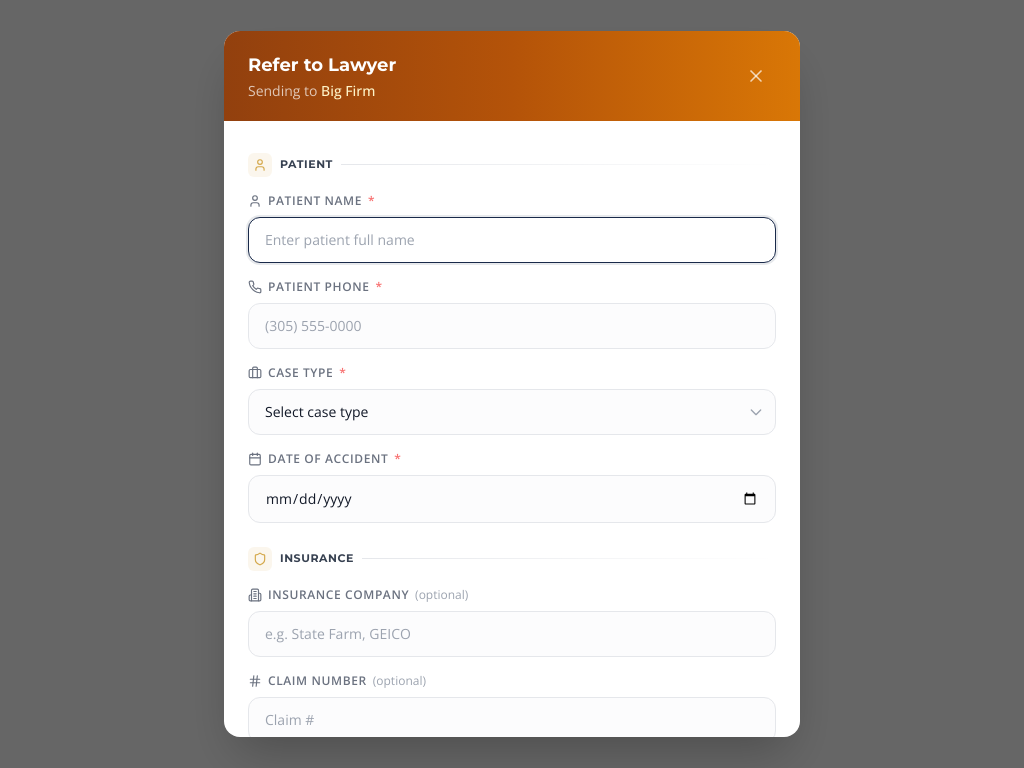
Test: ClinicReferralFormModal › shows server error when POST fails
Type "John Doe" into the field labelled "Patient Name *" at [512, 240], box [248,217,776,263]
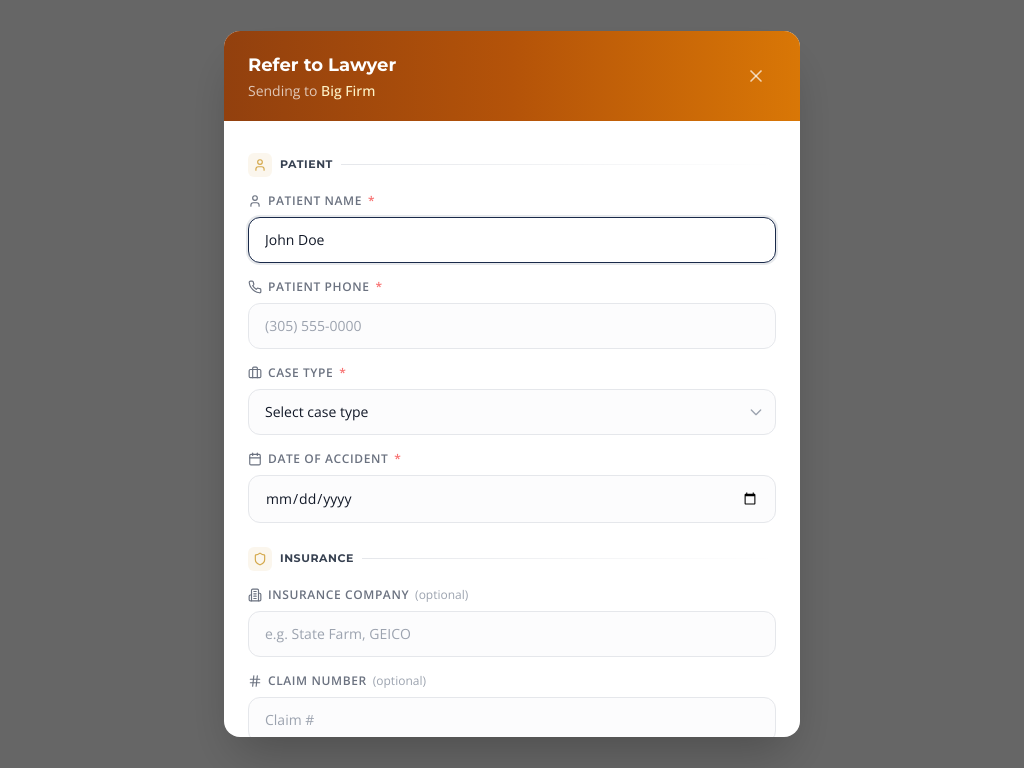
Type "305-555-0000" into the field labelled "Patient Phone *" at [512, 326], box [248,303,776,349]
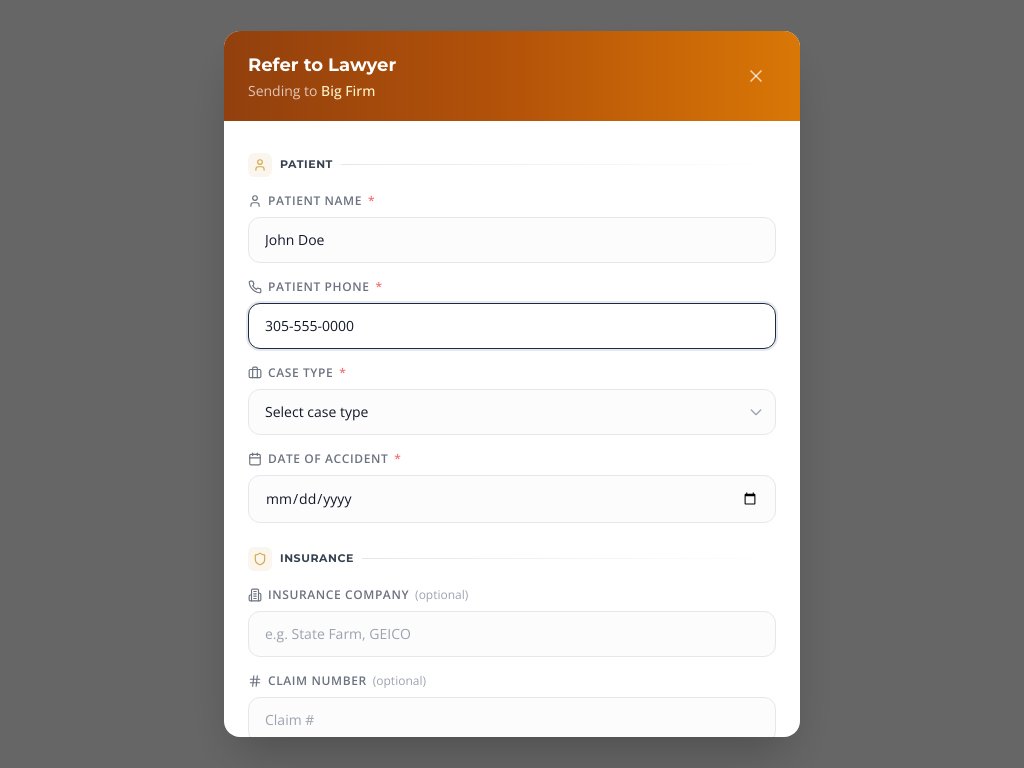
Select "Auto Accident" in the dropdown labelled "Case Type *" at [512, 412], box [248,389,776,435]
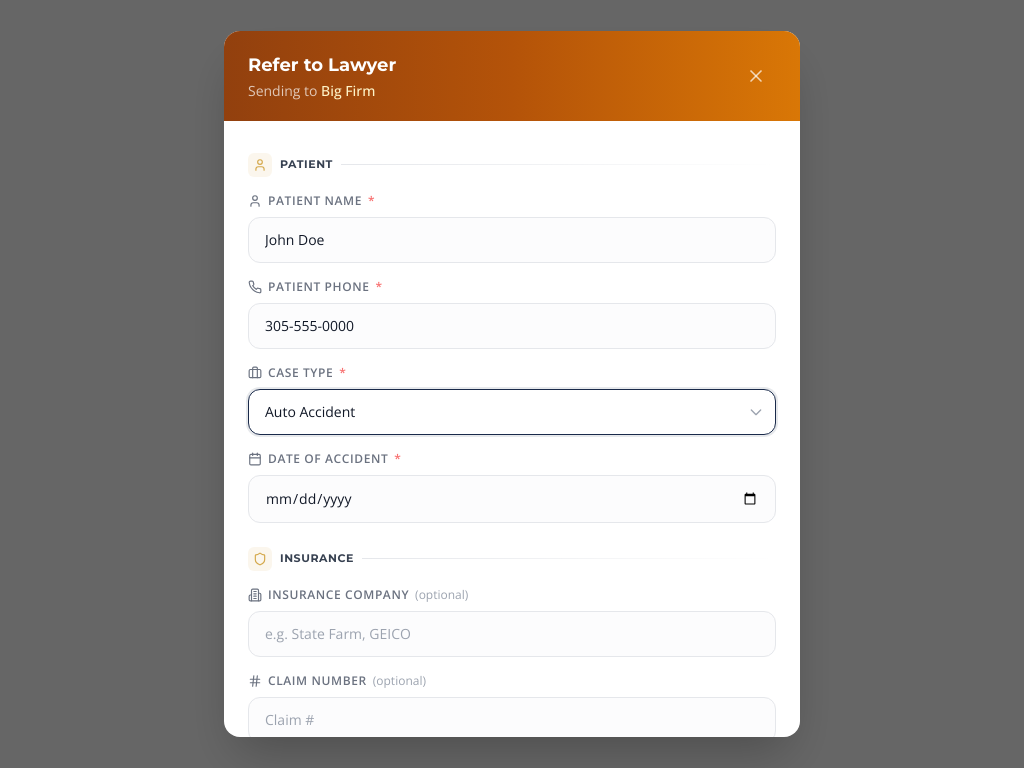
Type "2026-05-10" into the date field labelled "Date of Accident *" at [512, 499], box [248,475,776,523]
(page scrolled)
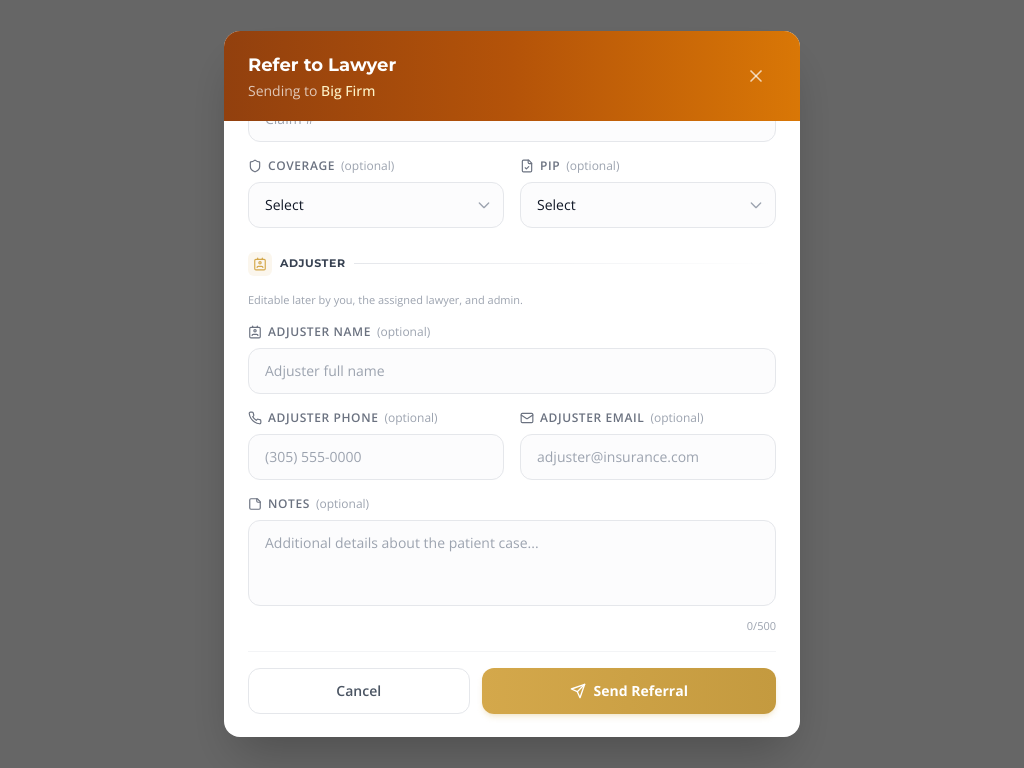
Click the button "Send Referral" at [629, 691], box [482,668,776,714]
(page scrolled)
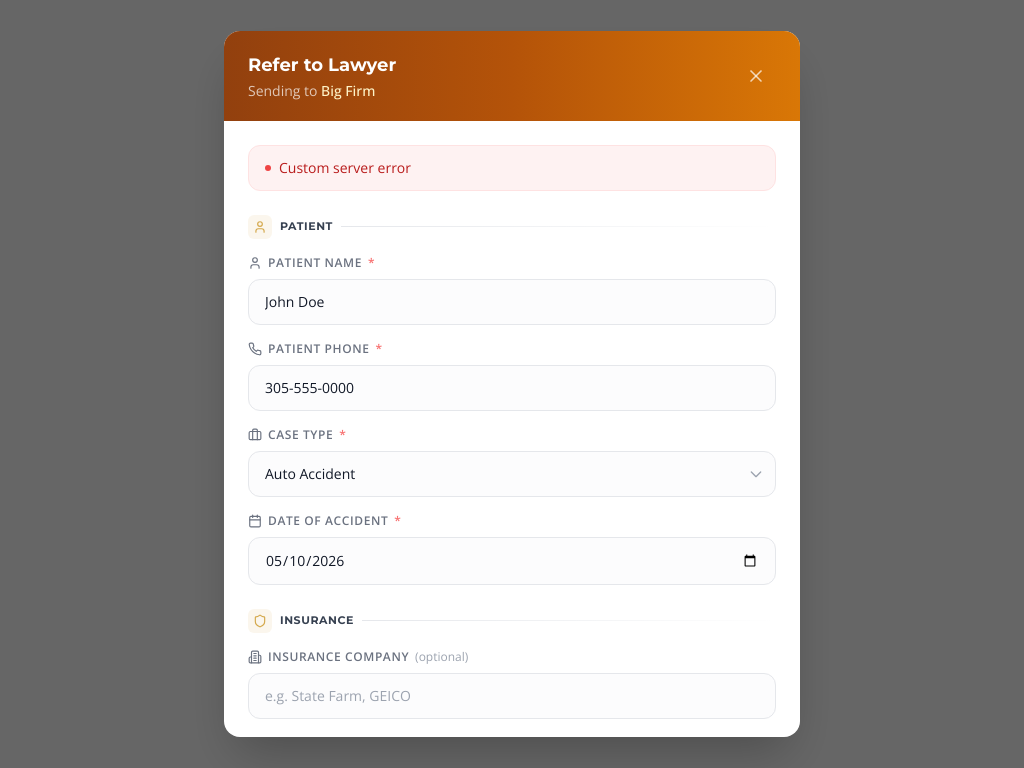
Now the message reads "Custom server error", box [279,158,411,177]
